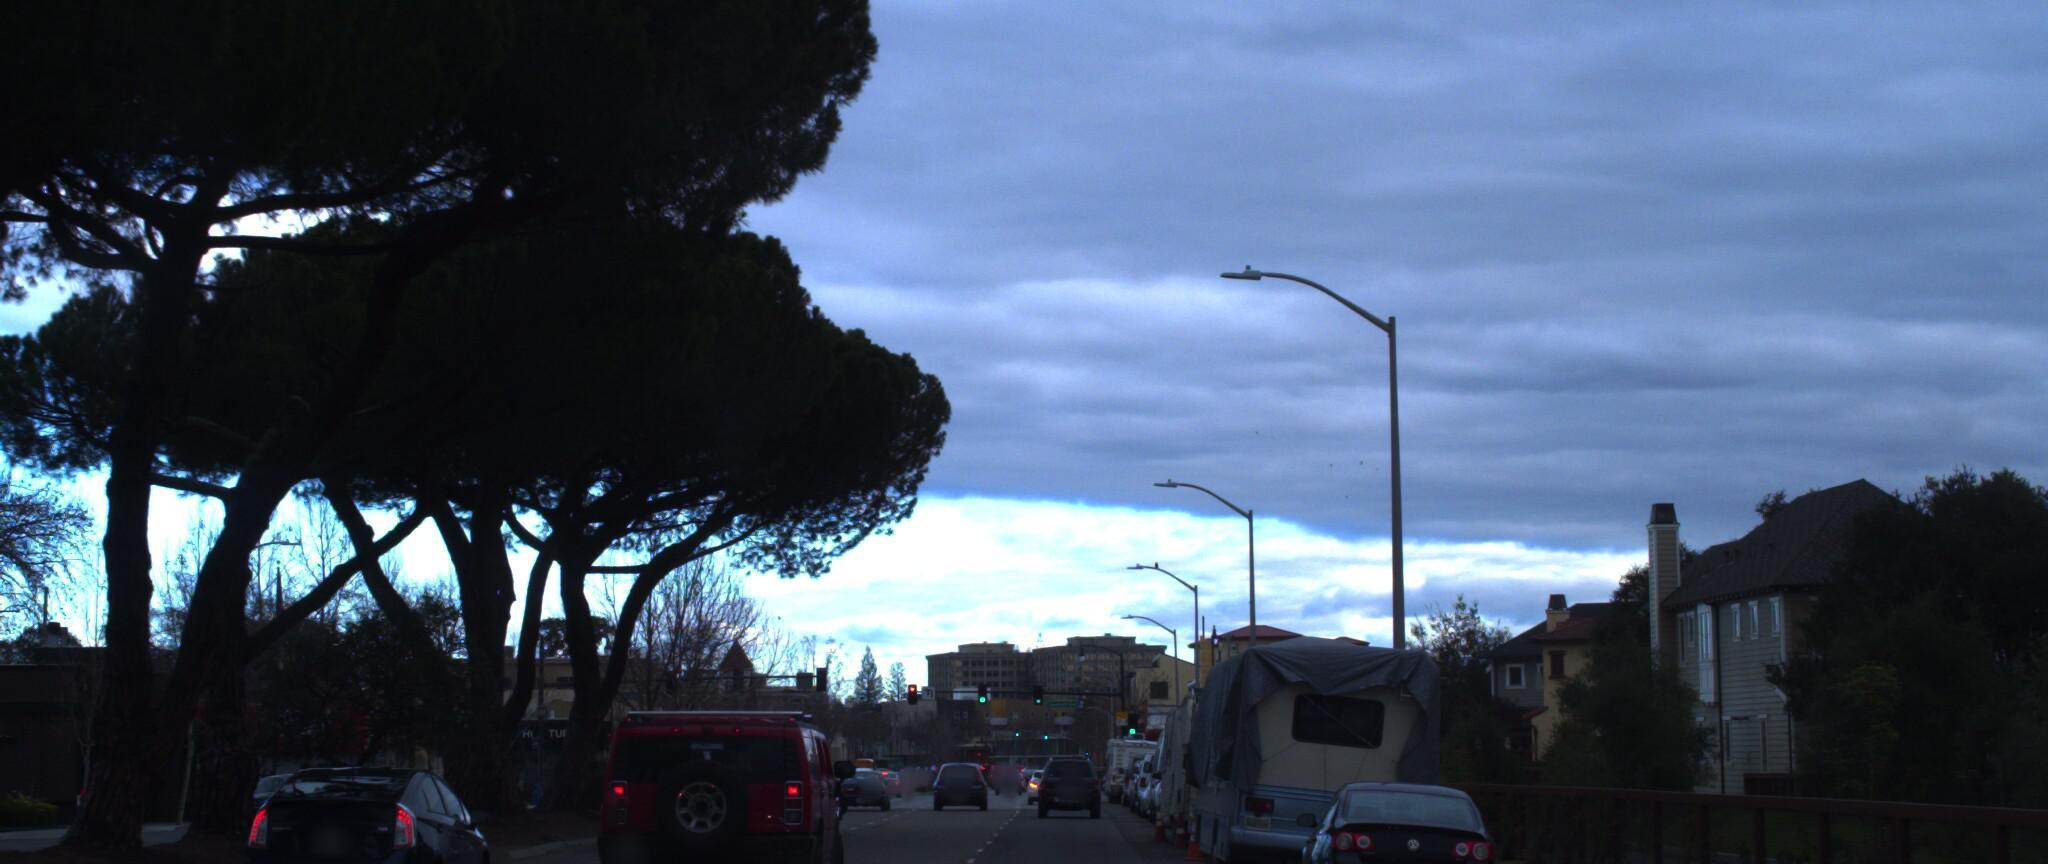car: (603, 697, 859, 864), (242, 760, 492, 864), (1301, 760, 1499, 864)
other_vehicle: (1191, 630, 1415, 864), (1159, 670, 1327, 839)
